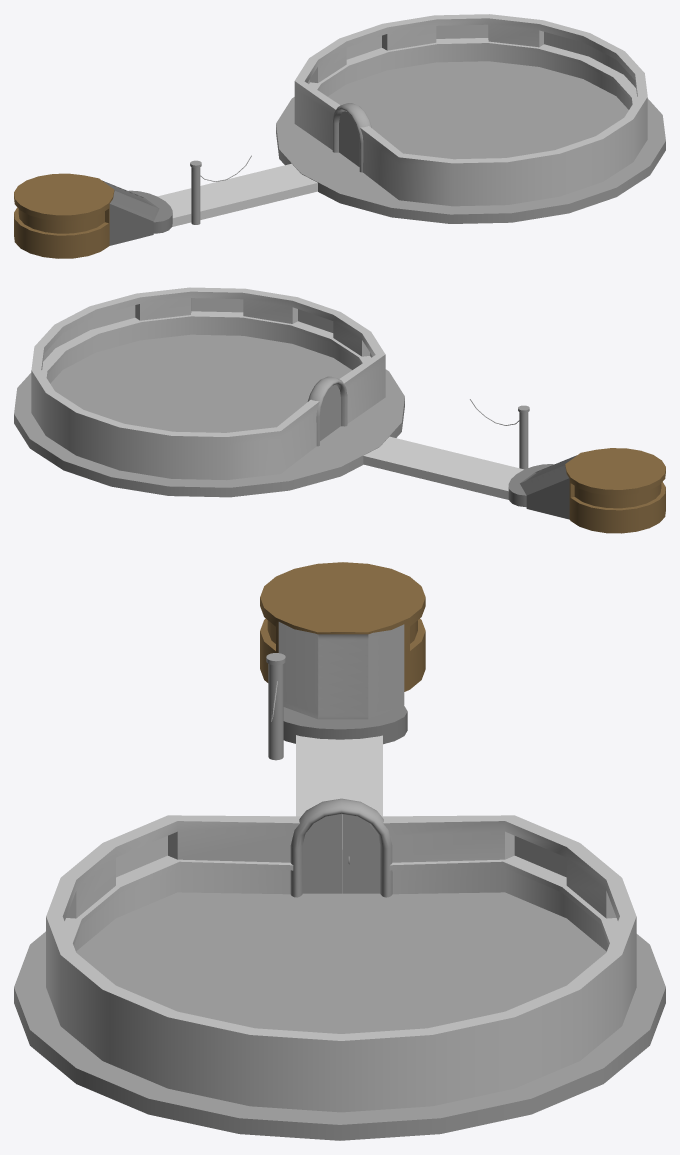
The model's file is hubarea.fbx.
3 views of the same model, one above another, from view 1: azimuth 30°, elevation 25°; view 2: azimuth 150°, elevation 25°; view 3: azimuth 270°, elevation 25° (orthographic). The views are drawn at different scales.
Visible parts, largest first — view 1: pCylinder23, pPipe4, pCylinder24, pCube1, pPlane1, pTorus15, pCylinder25, pCylinder26, pCylinder35, pCylinder34; view 2: pPipe4, pCylinder23, pCylinder24, pCube1, pPlane1, pTorus15, pCylinder25, pCylinder26, pCylinder34; view 3: pPipe4, pCylinder23, pCylinder24, pPlane1, pCube1, pTorus15, pCylinder25, pCylinder34, pCylinder35, pCylinder26.
Part boxes in pixels (<box>): pCylinder23: <box>276,61,665,223</box>; pPipe4: <box>294,14,647,206</box>; pCylinder24: <box>14,173,114,258</box>; pCube1: <box>157,163,317,226</box>; pPlane1: <box>102,180,159,245</box>; pTorus15: <box>332,103,371,172</box>; pCylinder25: <box>128,190,172,233</box>; pCylinder26: <box>190,160,201,224</box>; pCylinder35: <box>339,111,350,160</box>; pCylinder34: <box>350,115,359,166</box>; pPipe4: <box>31,287,385,480</box>; pCylinder23: <box>14,334,404,497</box>; pCylinder24: <box>565,448,665,533</box>; pCube1: <box>363,436,523,499</box>; pPlane1: <box>520,455,576,519</box>; pTorus15: <box>307,376,347,446</box>; pCylinder25: <box>508,464,553,507</box>; pCylinder26: <box>518,405,529,469</box>; pCylinder34: <box>328,385,340,434</box>; pPipe4: <box>46,815,636,1112</box>; pCylinder23: <box>14,850,665,1140</box>; pCylinder24: <box>260,562,425,691</box>; pPlane1: <box>278,622,404,719</box>; pCube1: <box>296,735,382,849</box>; pTorus15: <box>290,798,392,897</box>; pCylinder25: <box>283,705,407,744</box>; pCylinder34: <box>302,814,342,893</box>; pCylinder35: <box>343,814,380,893</box>; pCylinder26: <box>266,653,285,760</box>.
Bounding box in the file's own units: 534 × 53.96 × 293.
